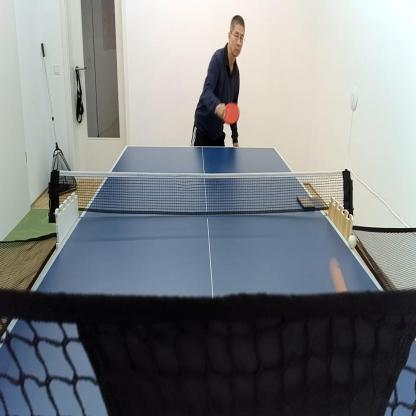Ball: (331, 258, 346, 292), (349, 234, 357, 248)
